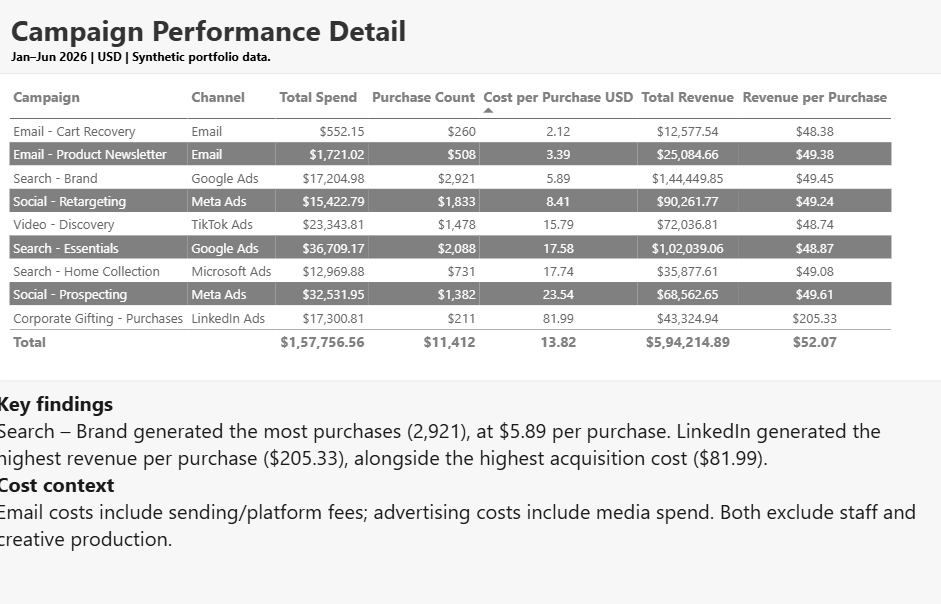

This screenshot's page, from the dashboard's own definition file:
{"tool":"powerbi","page":{"name":"Campaign Details","canvas":[1920,1080],"ordinal":1},"visuals":[{"type":"tableEx","fields":{"Values":["CampaignData.Campaign","CampaignData.Channel","CampaignData.Total Spend","CampaignData.Purchase Count","CampaignData.Cost per Purchase USD","CampaignData.Total Revenue","CampaignData.Revenue per Purchase"]},"box":[0,115.3,1270.8,410],"z":0},{"type":"textbox","box":[20.4,33.6,1250.3,99.2],"z":1000},{"type":"textbox","box":[0,535.4,1270.8,272.8],"z":2000}]}

Visuals, with their boxes on the page's 1920x1080 design canvas (x1, y1, x2, y2). These are canvas units, not pixel positions in the 941x604 screenshot, which may show the page scaled, cropped or inside an application window:
tableEx - CampaignData.Campaign x CampaignData.Channel: [0,115,1271,525]
textbox: [20,34,1271,133]
textbox: [0,535,1271,808]
